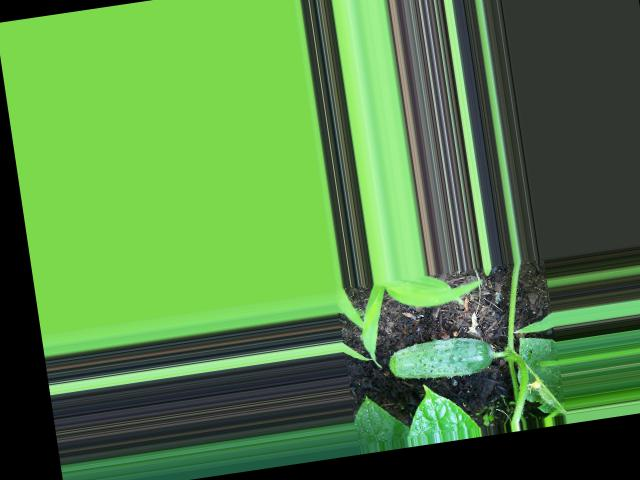cucumber: (384, 331, 495, 385)
